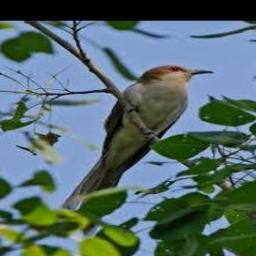Cuckoo: (62, 65, 214, 236)
